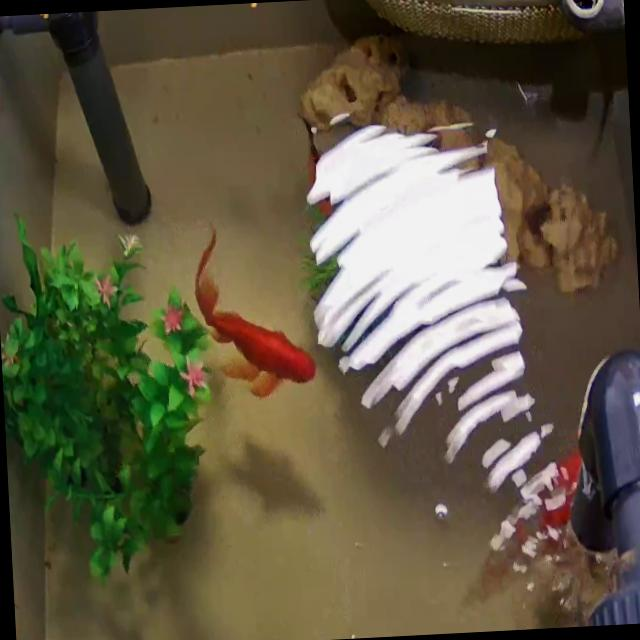fish: (171, 226, 332, 428)
